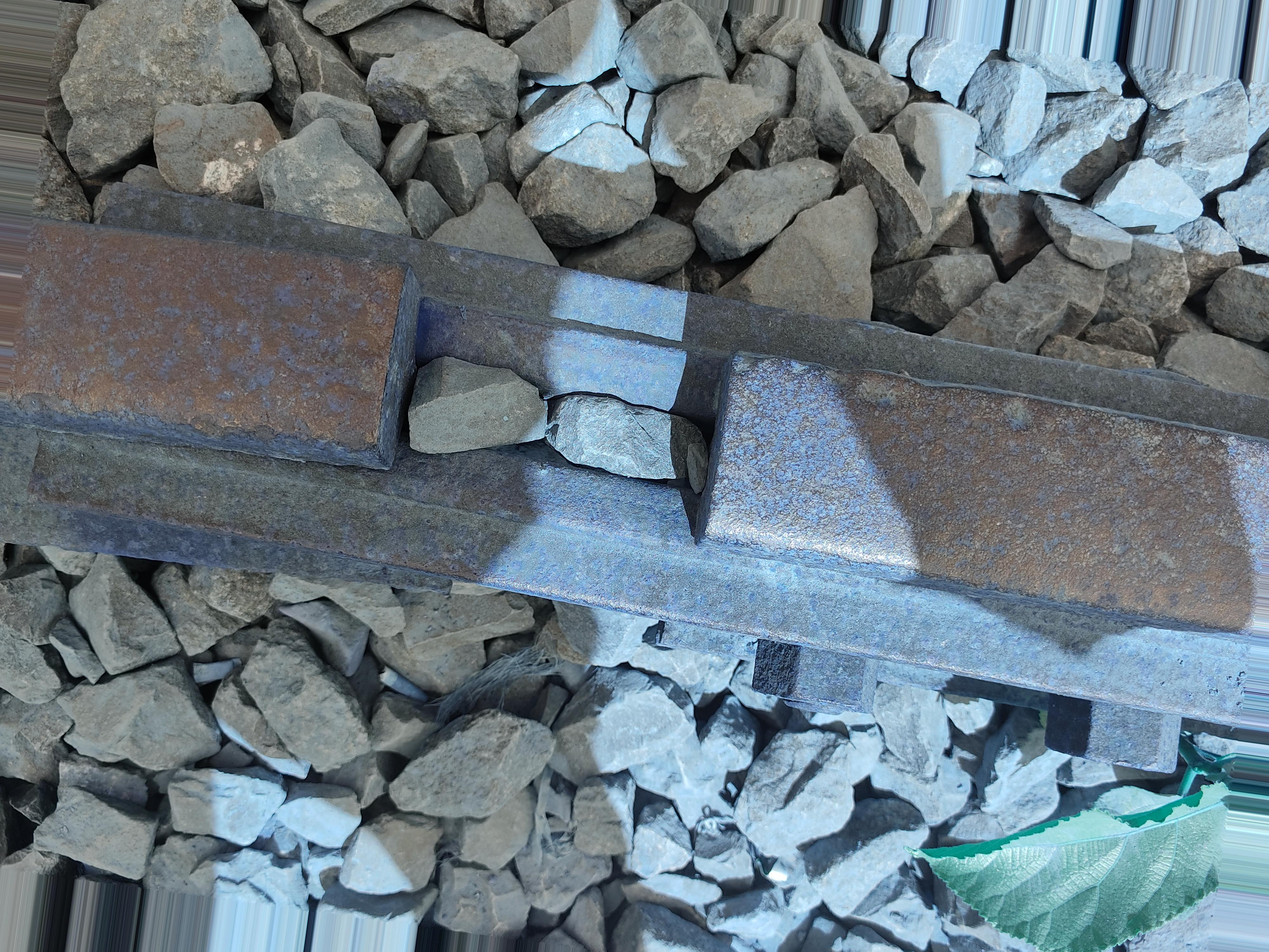tracks_fault: (320, 241, 811, 595)
